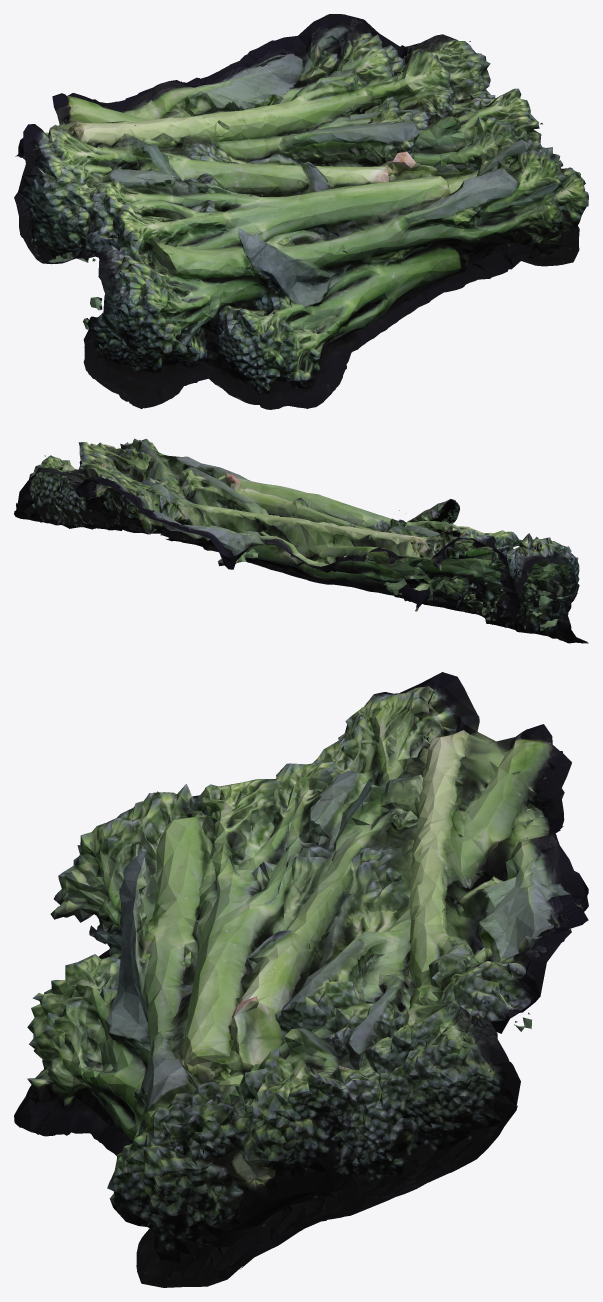
Rendered from brocolis.dae.
3 views of the same model, one above another, from view 1: azimuth 30°, elevation 25°; view 2: azimuth 150°, elevation 25°; view 3: azimuth 270°, elevation 25° (orthographic). The views are drawn at different scales.
Visible parts, largest first — view 1: node; view 2: node; view 3: node.
Part boxes in pixels (x1,y1,x2,y2): node: (14,14,588,409); node: (14,438,588,643); node: (14,672,588,1287).
Bounding box in the file's own units: 40.38 × 16.43 × 25.32.
Materials: 1 (1 with a texture image).
